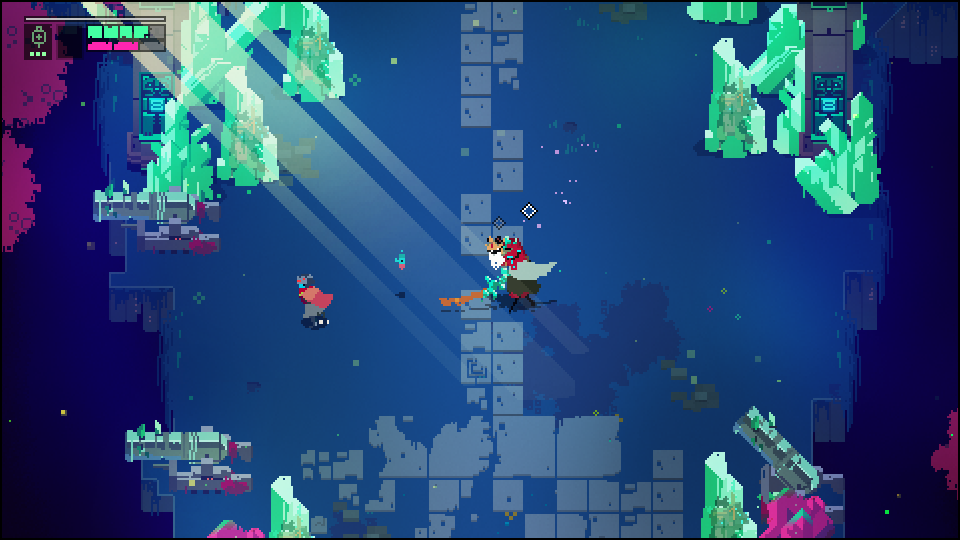hanged_man: (433, 236, 548, 310)
player: (293, 277, 333, 327)
